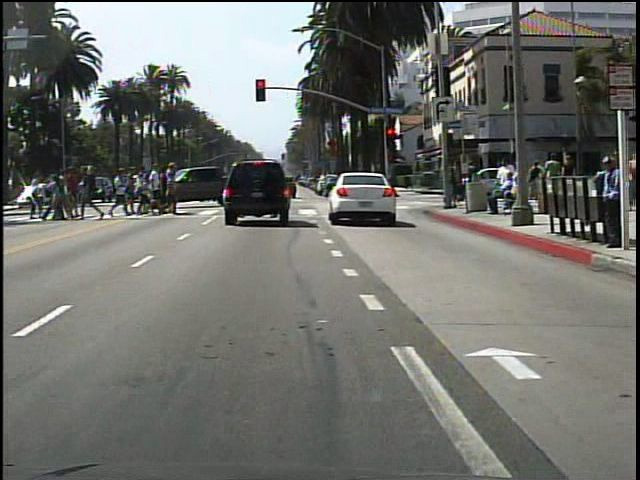person: (593, 156, 623, 256)
